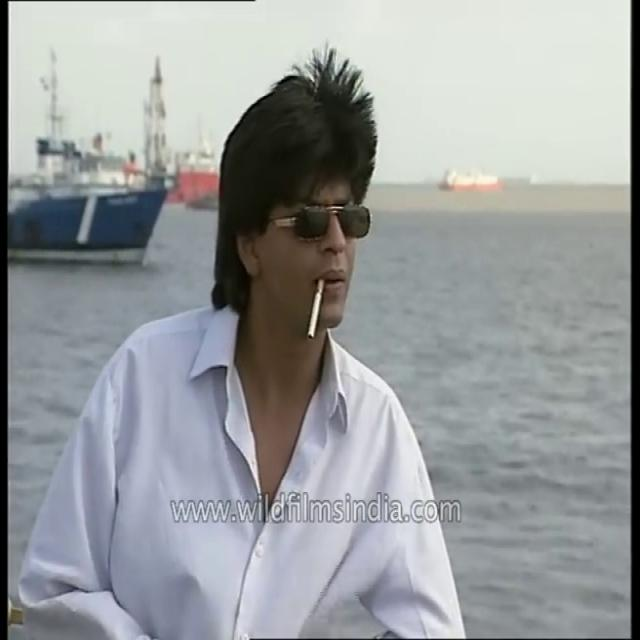Smooking: (298, 276, 326, 359)
